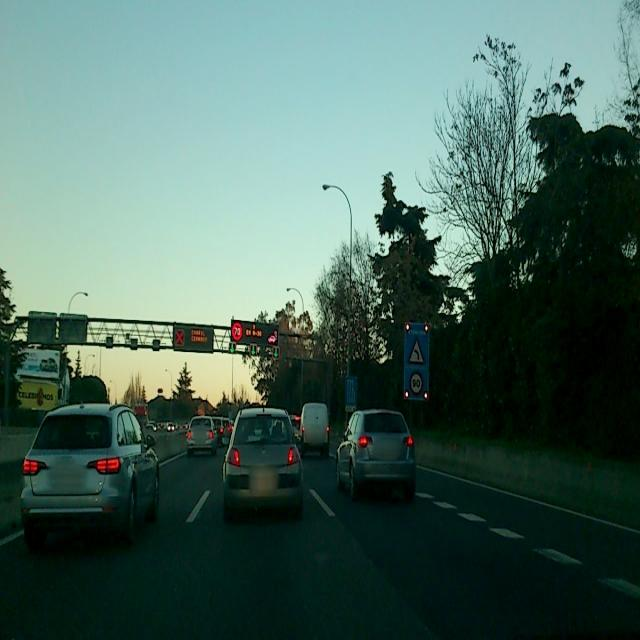car: (20, 399, 160, 549), (222, 405, 304, 521), (334, 408, 416, 501), (298, 403, 329, 457), (186, 415, 218, 457), (210, 415, 224, 445), (289, 414, 302, 442), (222, 418, 233, 436), (165, 420, 177, 432)
